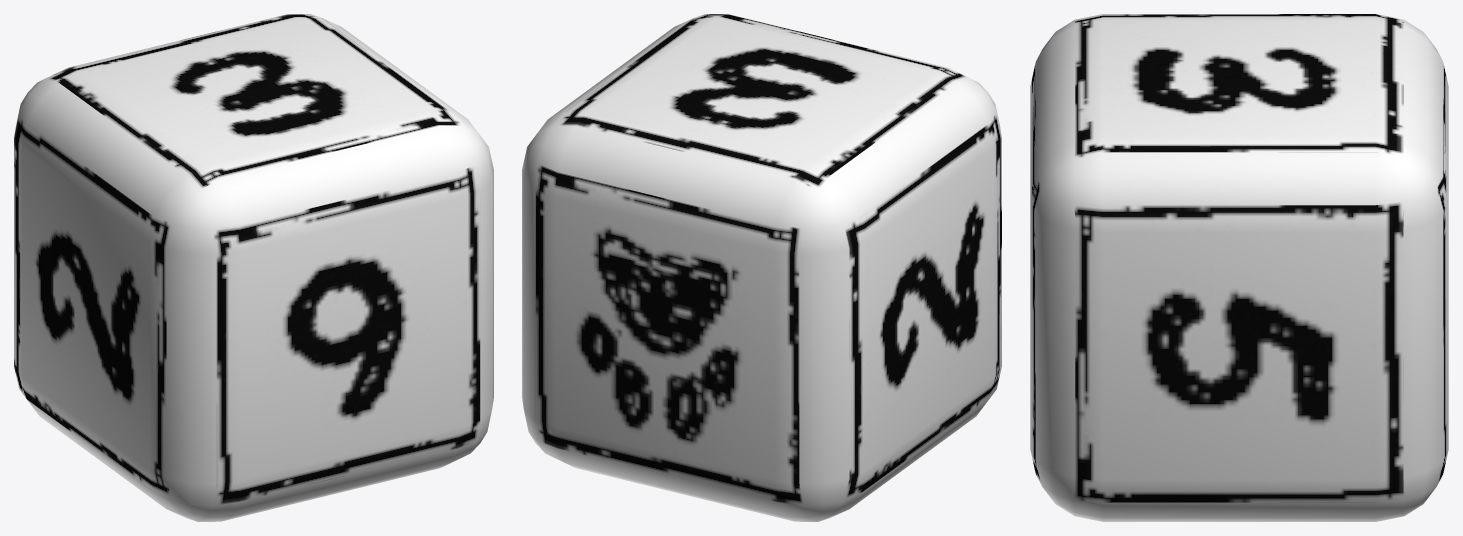
The model's file is die.fbx.
3 views of the same model, side by side, from view 1: azimuth 30°, elevation 25°; view 2: azimuth 150°, elevation 25°; view 3: azimuth 270°, elevation 25° (orthographic). The views are drawn at different scales.
Visible parts, largest first — view 1: Die; view 2: Die; view 3: Die.
Boxes of the visible parts, bbox=[...] form: Die: bbox=[14, 14, 493, 521]; Die: bbox=[522, 14, 1001, 521]; Die: bbox=[1030, 14, 1448, 521].
Size of the model in its own units: 200 by 200 by 200.
